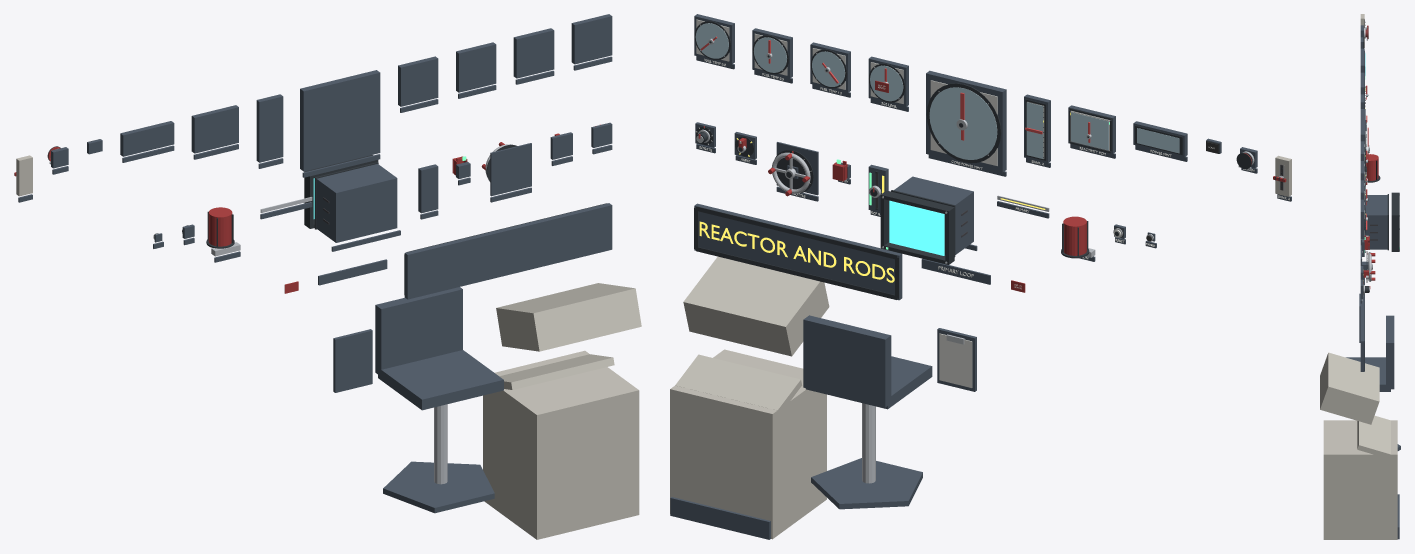
Rendered from PanelKits.fbx.
3 views of the same model, side by side, from view 1: azimuth 30°, elevation 25°; view 2: azimuth 150°, elevation 25°; view 3: azimuth 270°, elevation 25° (orthographic). The views are drawn at different scales.
Parts seen in each view (by area): view 1: K14_a_LowerCabinet, K21_a_Base, K14_a_UpperInstrumentHood, K01L_a_Base, K15_a_Backrest, K13_a_Housing, K15_a_SeatPan, K15_a_FiveStarBase, K18_a_BinderBody, K03_a_Base, K10_a_Flange, K14_a_AngledLowerDeck (+10 smaller); view 2: K14_a_LowerCabinet, K14_a_UpperInstrumentHood, K21_a_Base, K15_a_Backrest, K14_a_AngledLowerDeck, K15_a_FiveStarBase, K01L_a_Glass, CRT_A1_Core, K13_a_Housing, K14_a_KickPlate, K01L_a_Base, K18_a_PageQuad (+16 smaller); view 3: K14_a_LowerCabinet, K14_a_UpperInstrumentHood, K14_a_AngledLowerDeck, K13_a_Housing, K15_a_Backrest, K15_a_SeatPan, K21_a_Base, K13_a_BezelLeft, BIND_KLAXON_Beacon_L, K13_a_BezelTop, K01L_a_Base, K01_lo_Base (+2 smaller).
Part boxes in pixels (x1,y1,x2,y2): K14_a_LowerCabinet: [483, 350, 639, 539]; K21_a_Base: [404, 203, 612, 299]; K14_a_UpperInstrumentHood: [496, 283, 641, 351]; K01L_a_Base: [300, 70, 380, 171]; K15_a_Backrest: [375, 287, 462, 374]; K13_a_Housing: [316, 164, 397, 242]; K15_a_SeatPan: [378, 350, 503, 410]; K15_a_FiveStarBase: [383, 461, 494, 513]; K18_a_BinderBody: [333, 329, 372, 392]; K03_a_Base: [191, 105, 238, 153]; K10_a_Flange: [490, 143, 531, 196]; K14_a_AngledLowerDeck: [499, 354, 614, 389]; K14_a_LowerCabinet: [670, 349, 826, 539]; K14_a_UpperInstrumentHood: [683, 256, 829, 356]; K21_a_Base: [694, 203, 902, 300]; K15_a_Backrest: [803, 315, 891, 407]; K14_a_AngledLowerDeck: [675, 354, 802, 415]; K15_a_FiveStarBase: [811, 458, 922, 509]; K01L_a_Glass: [929, 87, 997, 159]; CRT_A1_Core: [889, 200, 944, 255]; K13_a_Housing: [894, 176, 973, 254]; K14_a_KickPlate: [670, 497, 770, 539]; K01L_a_Base: [926, 70, 1006, 172]; K18_a_PageQuad: [939, 333, 972, 387]; K14_a_LowerCabinet: [1323, 420, 1397, 539]; K14_a_UpperInstrumentHood: [1320, 352, 1379, 424]; K14_a_AngledLowerDeck: [1357, 416, 1390, 458]; K13_a_Housing: [1365, 195, 1387, 249]; K15_a_Backrest: [1386, 315, 1394, 389]; K15_a_SeatPan: [1346, 357, 1390, 391]; K21_a_Base: [1360, 277, 1364, 371]; K13_a_BezelLeft: [1391, 217, 1399, 249]; BIND_KLAXON_Beacon_L: [1366, 154, 1378, 180]; K13_a_BezelTop: [1391, 192, 1399, 217]; K01L_a_Base: [1360, 109, 1365, 186]; K01_lo_Base: [1360, 199, 1364, 238].
Size of the model in its own units: 3.48 by 2.69 by 0.6011.
